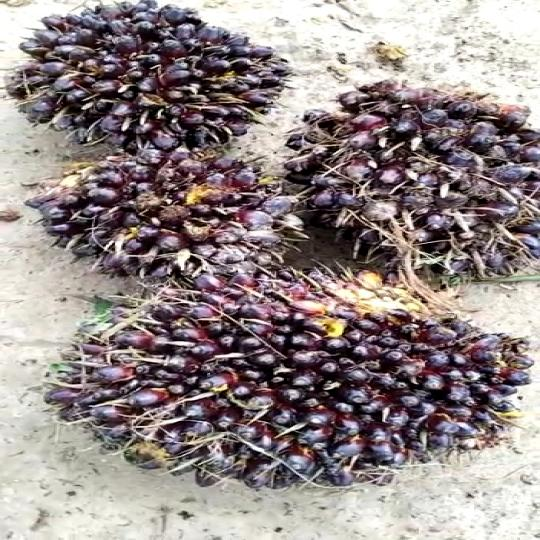kurang masak: (57, 274, 540, 493), (301, 66, 540, 289), (7, 0, 291, 160), (37, 149, 314, 282)
